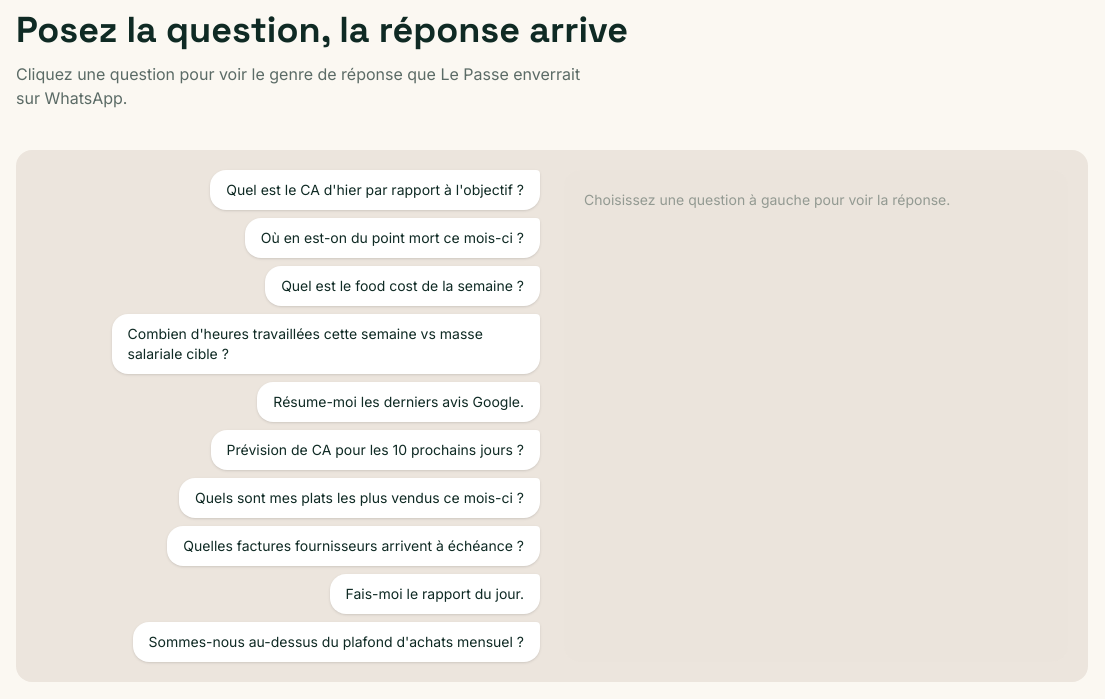
Scenario: ChatExamples (T-4.2) › shows the matching illustrative answer in an aria-live region when a question is clicked
What coordinates should you click on to do the following:
click the button "Quel est le CA d'hier par rapport à l'objectif ?"
I would click on:
 (375, 190)
Its box is 210,170 -> 540,210.
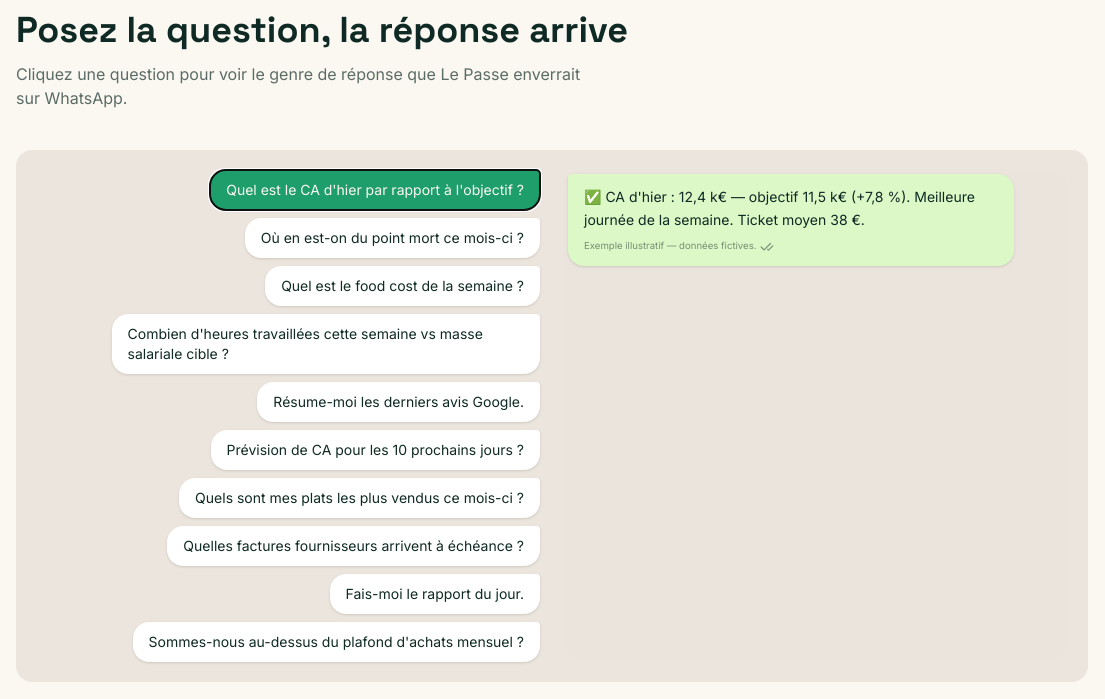
Expected: the message shows "✅ CA d'hier : 12,4 k€ — objectif 11,5 k€ (+7,8 %). Meilleure journée de la semaine. Ticket moyen 38 €.", 584,188 -> 975,228
